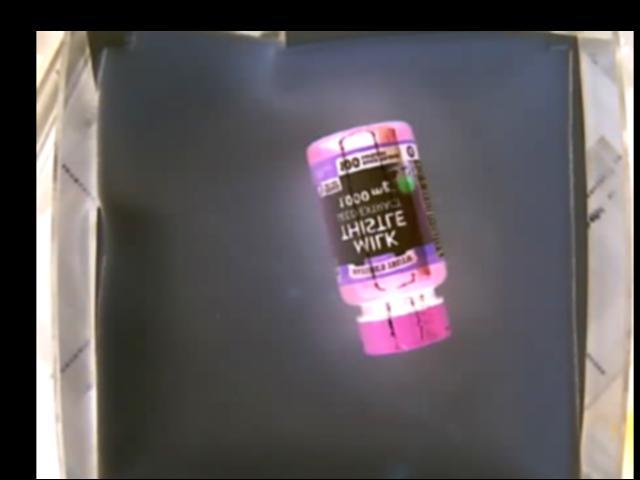Bottle: (310, 120, 451, 352)
